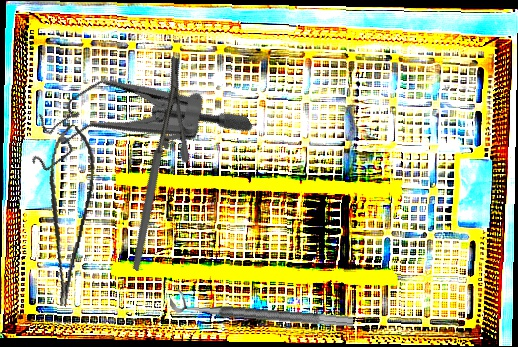Fixation Ring: (169, 285, 355, 328)
Micro Scissor: (24, 122, 105, 308)
Needle Holder: (69, 55, 241, 272)
Speculum: (12, 22, 255, 236)
